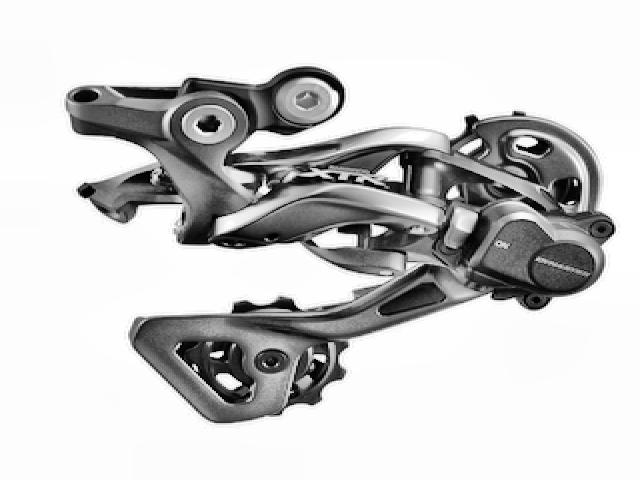rear_derailleur: (55, 62, 618, 436)
